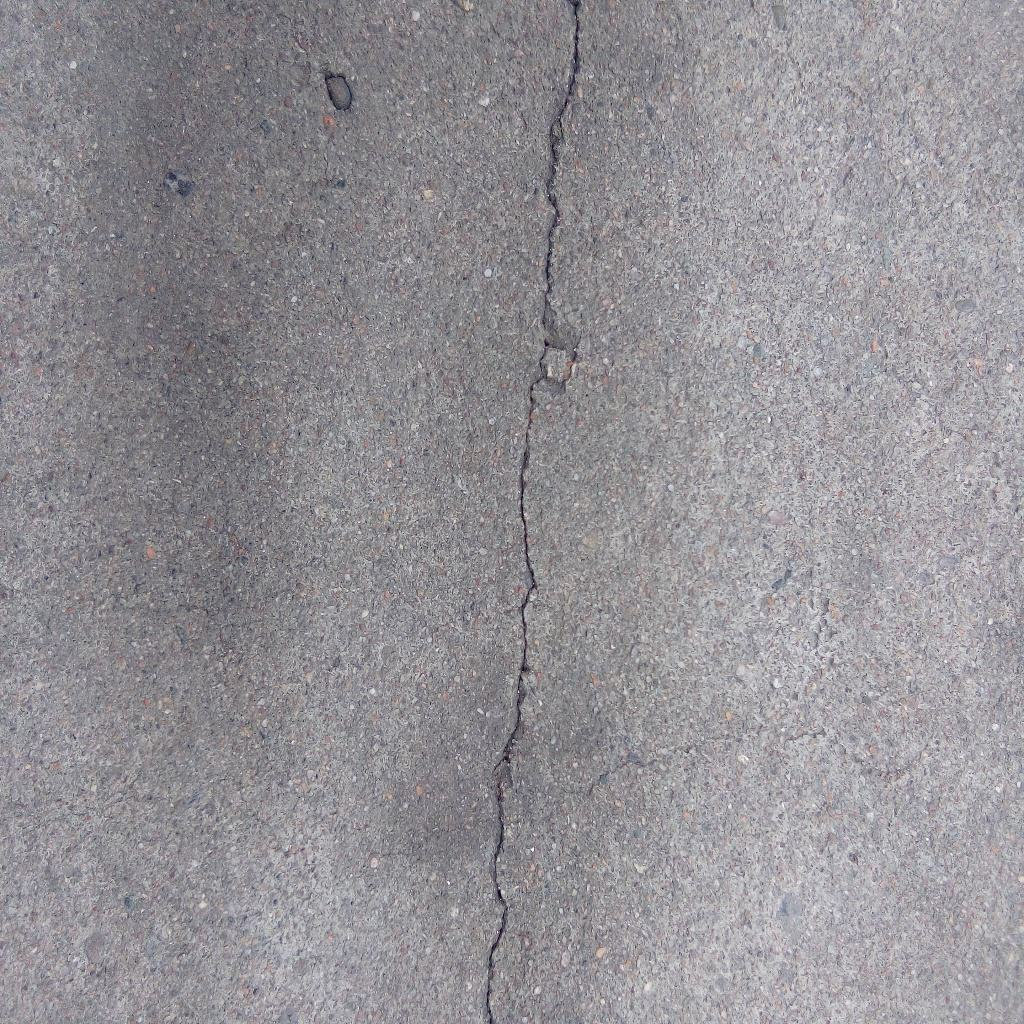Crack: (482, 1, 580, 1024)
